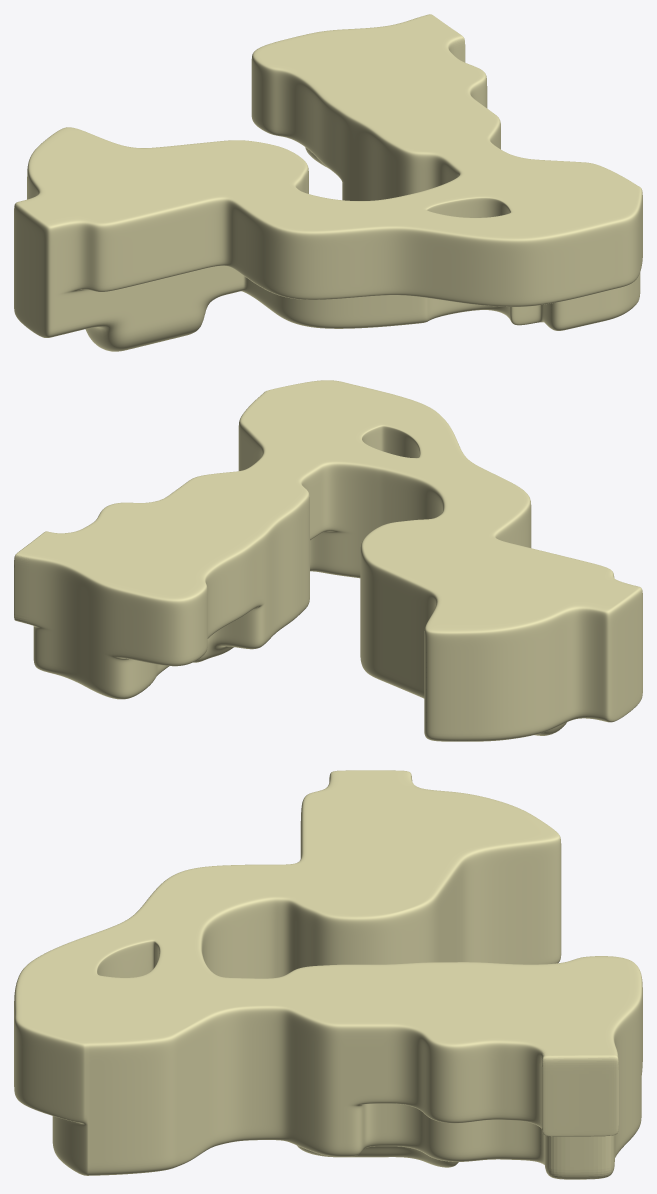
File: Sala2.fbx
3 views of the same model, one above another, from view 1: azimuth 30°, elevation 25°; view 2: azimuth 150°, elevation 25°; view 3: azimuth 270°, elevation 25° (orthographic). The views are drawn at different scales.
Parts seen in each view (by area): view 1: Base 1-2; view 2: Base 1-2; view 3: Base 1-2.
Boxes of the visible parts, x1,y1,x2,y2 form: Base 1-2: (14,14,642,351); Base 1-2: (14,380,642,741); Base 1-2: (14,770,642,1179).
Size of the model in its own units: 21726 by 23579 by 6702.
